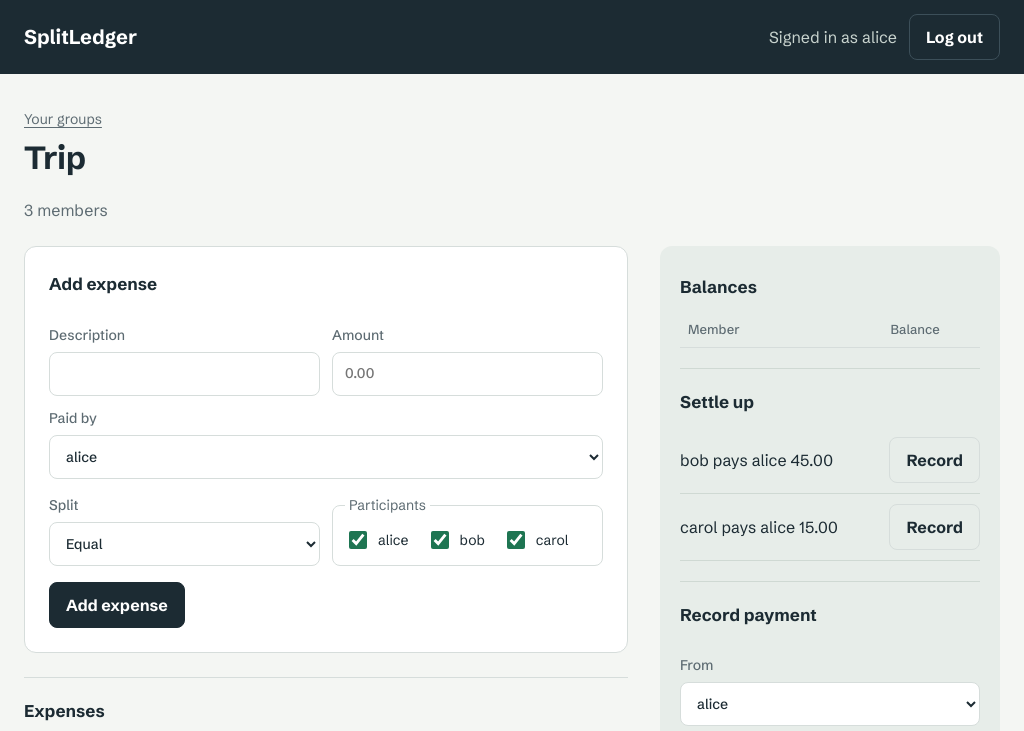
Test: SettleUpPanel › shows record error
expect the text "bob pays alice 45.00" is shown: met, box [680,448,833,472]
Step 1. Click the button "Record" next to "bob pays alice 45.00" → (935,460), box [890,436,980,482]
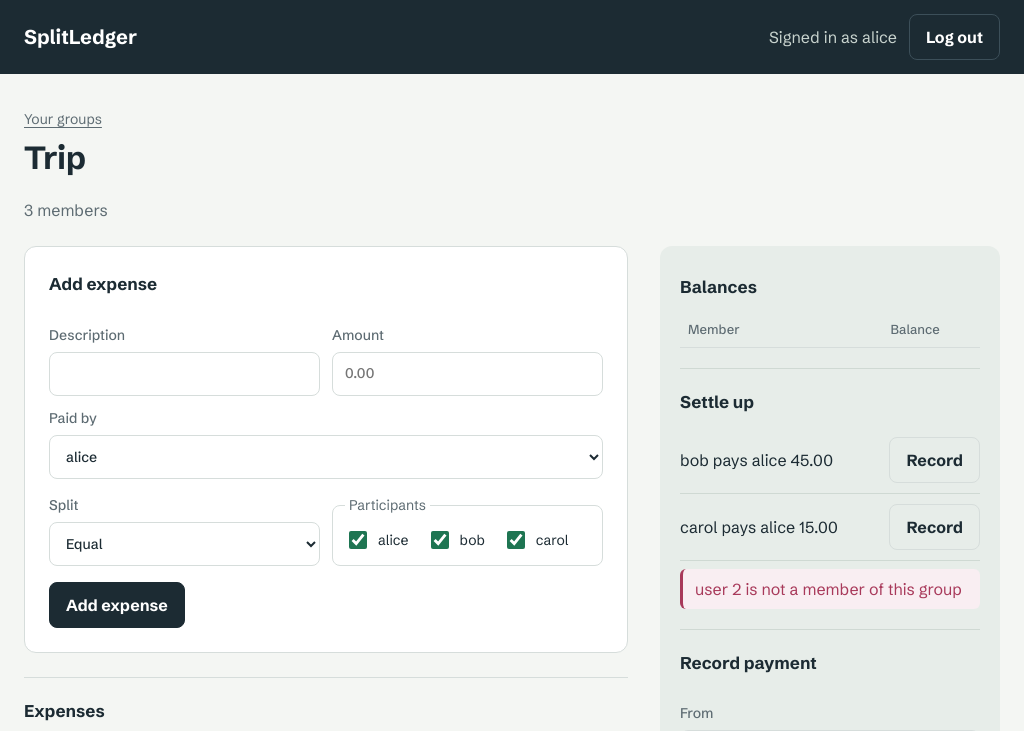
expect the message reads "user 2 is not a member of this group": met, box [695,578,962,598]
